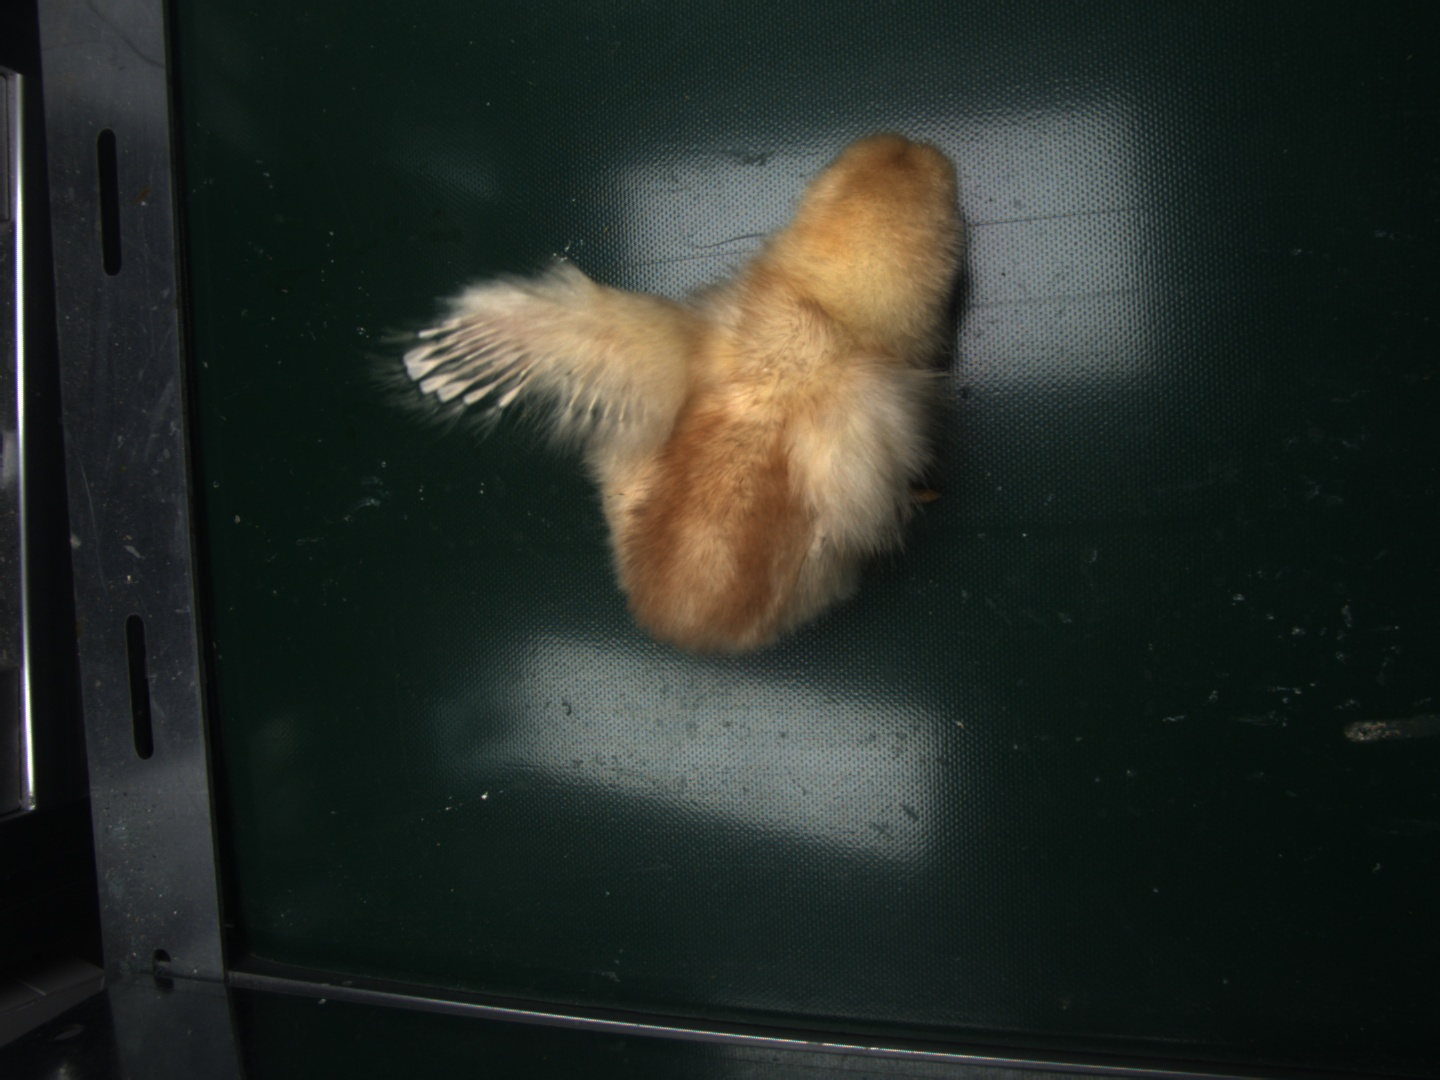female: (406, 311, 534, 410)
